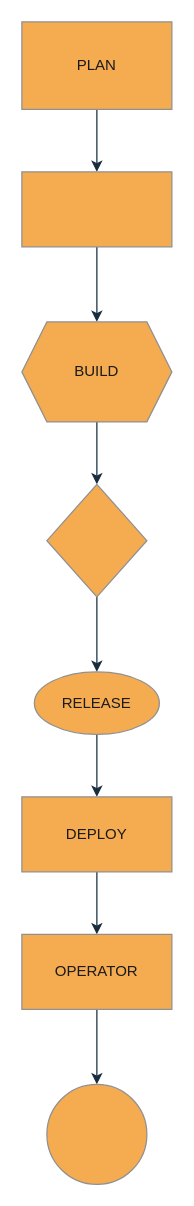
The diagram is 194 pixels wide and 1206 high, and some of its shapes have lost their labels. The centre of each missing label's shape, as x and y in pixels:
CODE: (x=96, y=209)
MONITOR: (x=96, y=1133)
TEST: (x=96, y=540)
